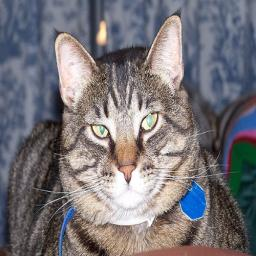catnose: (118, 164, 137, 184)
